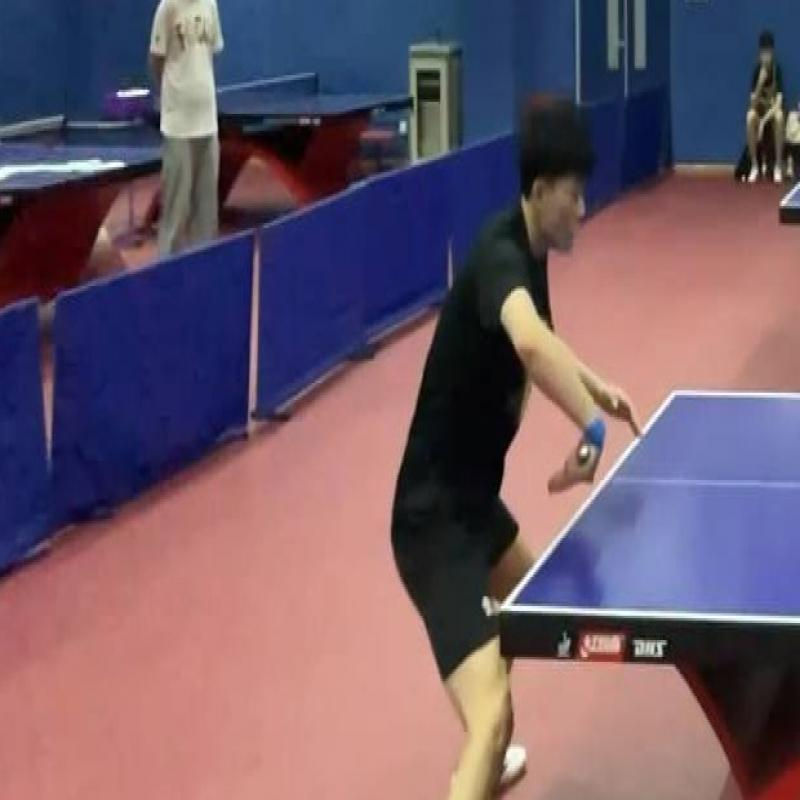bats: (544, 429, 613, 502)
